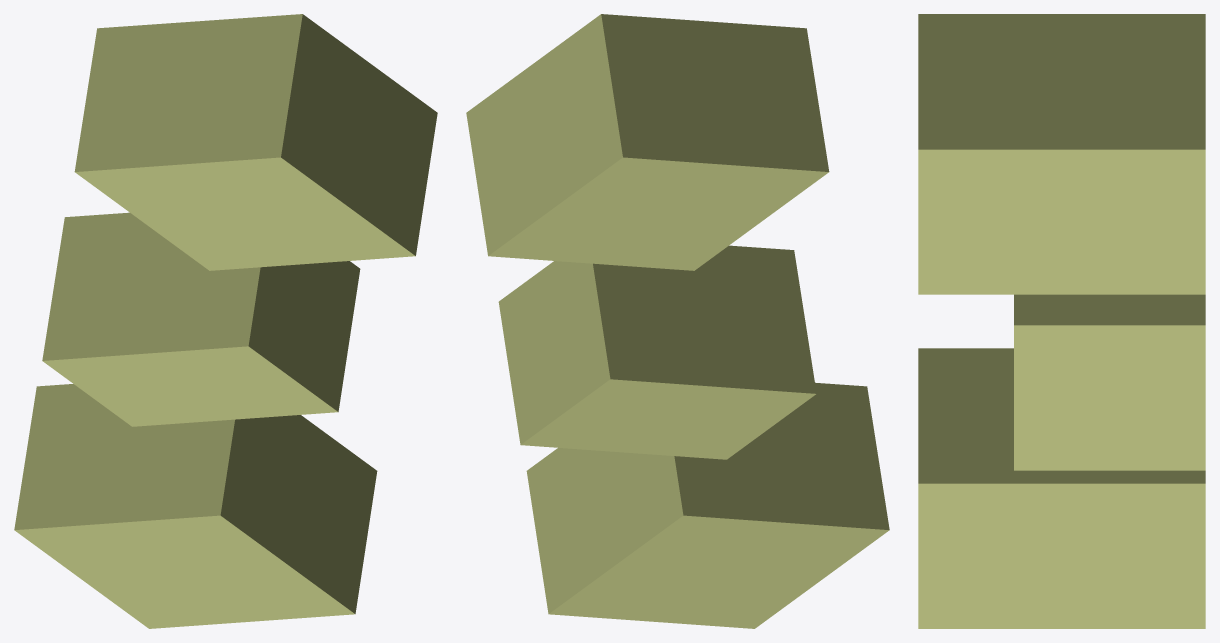
3 views of the same model, side by side, from view 1: azimuth 30°, elevation 25°; view 2: azimuth 150°, elevation 25°; view 3: azimuth 270°, elevation 25° (orthographic). The views are drawn at different scales.
Parts seen in each view (by area): view 1: 0_1_0_0_1_1_3_0_3_3; view 2: 0_1_0_0_1_1_3_0_3_3; view 3: 0_1_0_0_1_1_3_0_3_3.
Part boxes in pixels (x1,y1,x2,y2): 0_1_0_0_1_1_3_0_3_3: (14, 14, 437, 628); 0_1_0_0_1_1_3_0_3_3: (466, 14, 889, 628); 0_1_0_0_1_1_3_0_3_3: (918, 14, 1205, 628).
Bounding box in the file's own units: 11.11 × 19.04 × 9.
